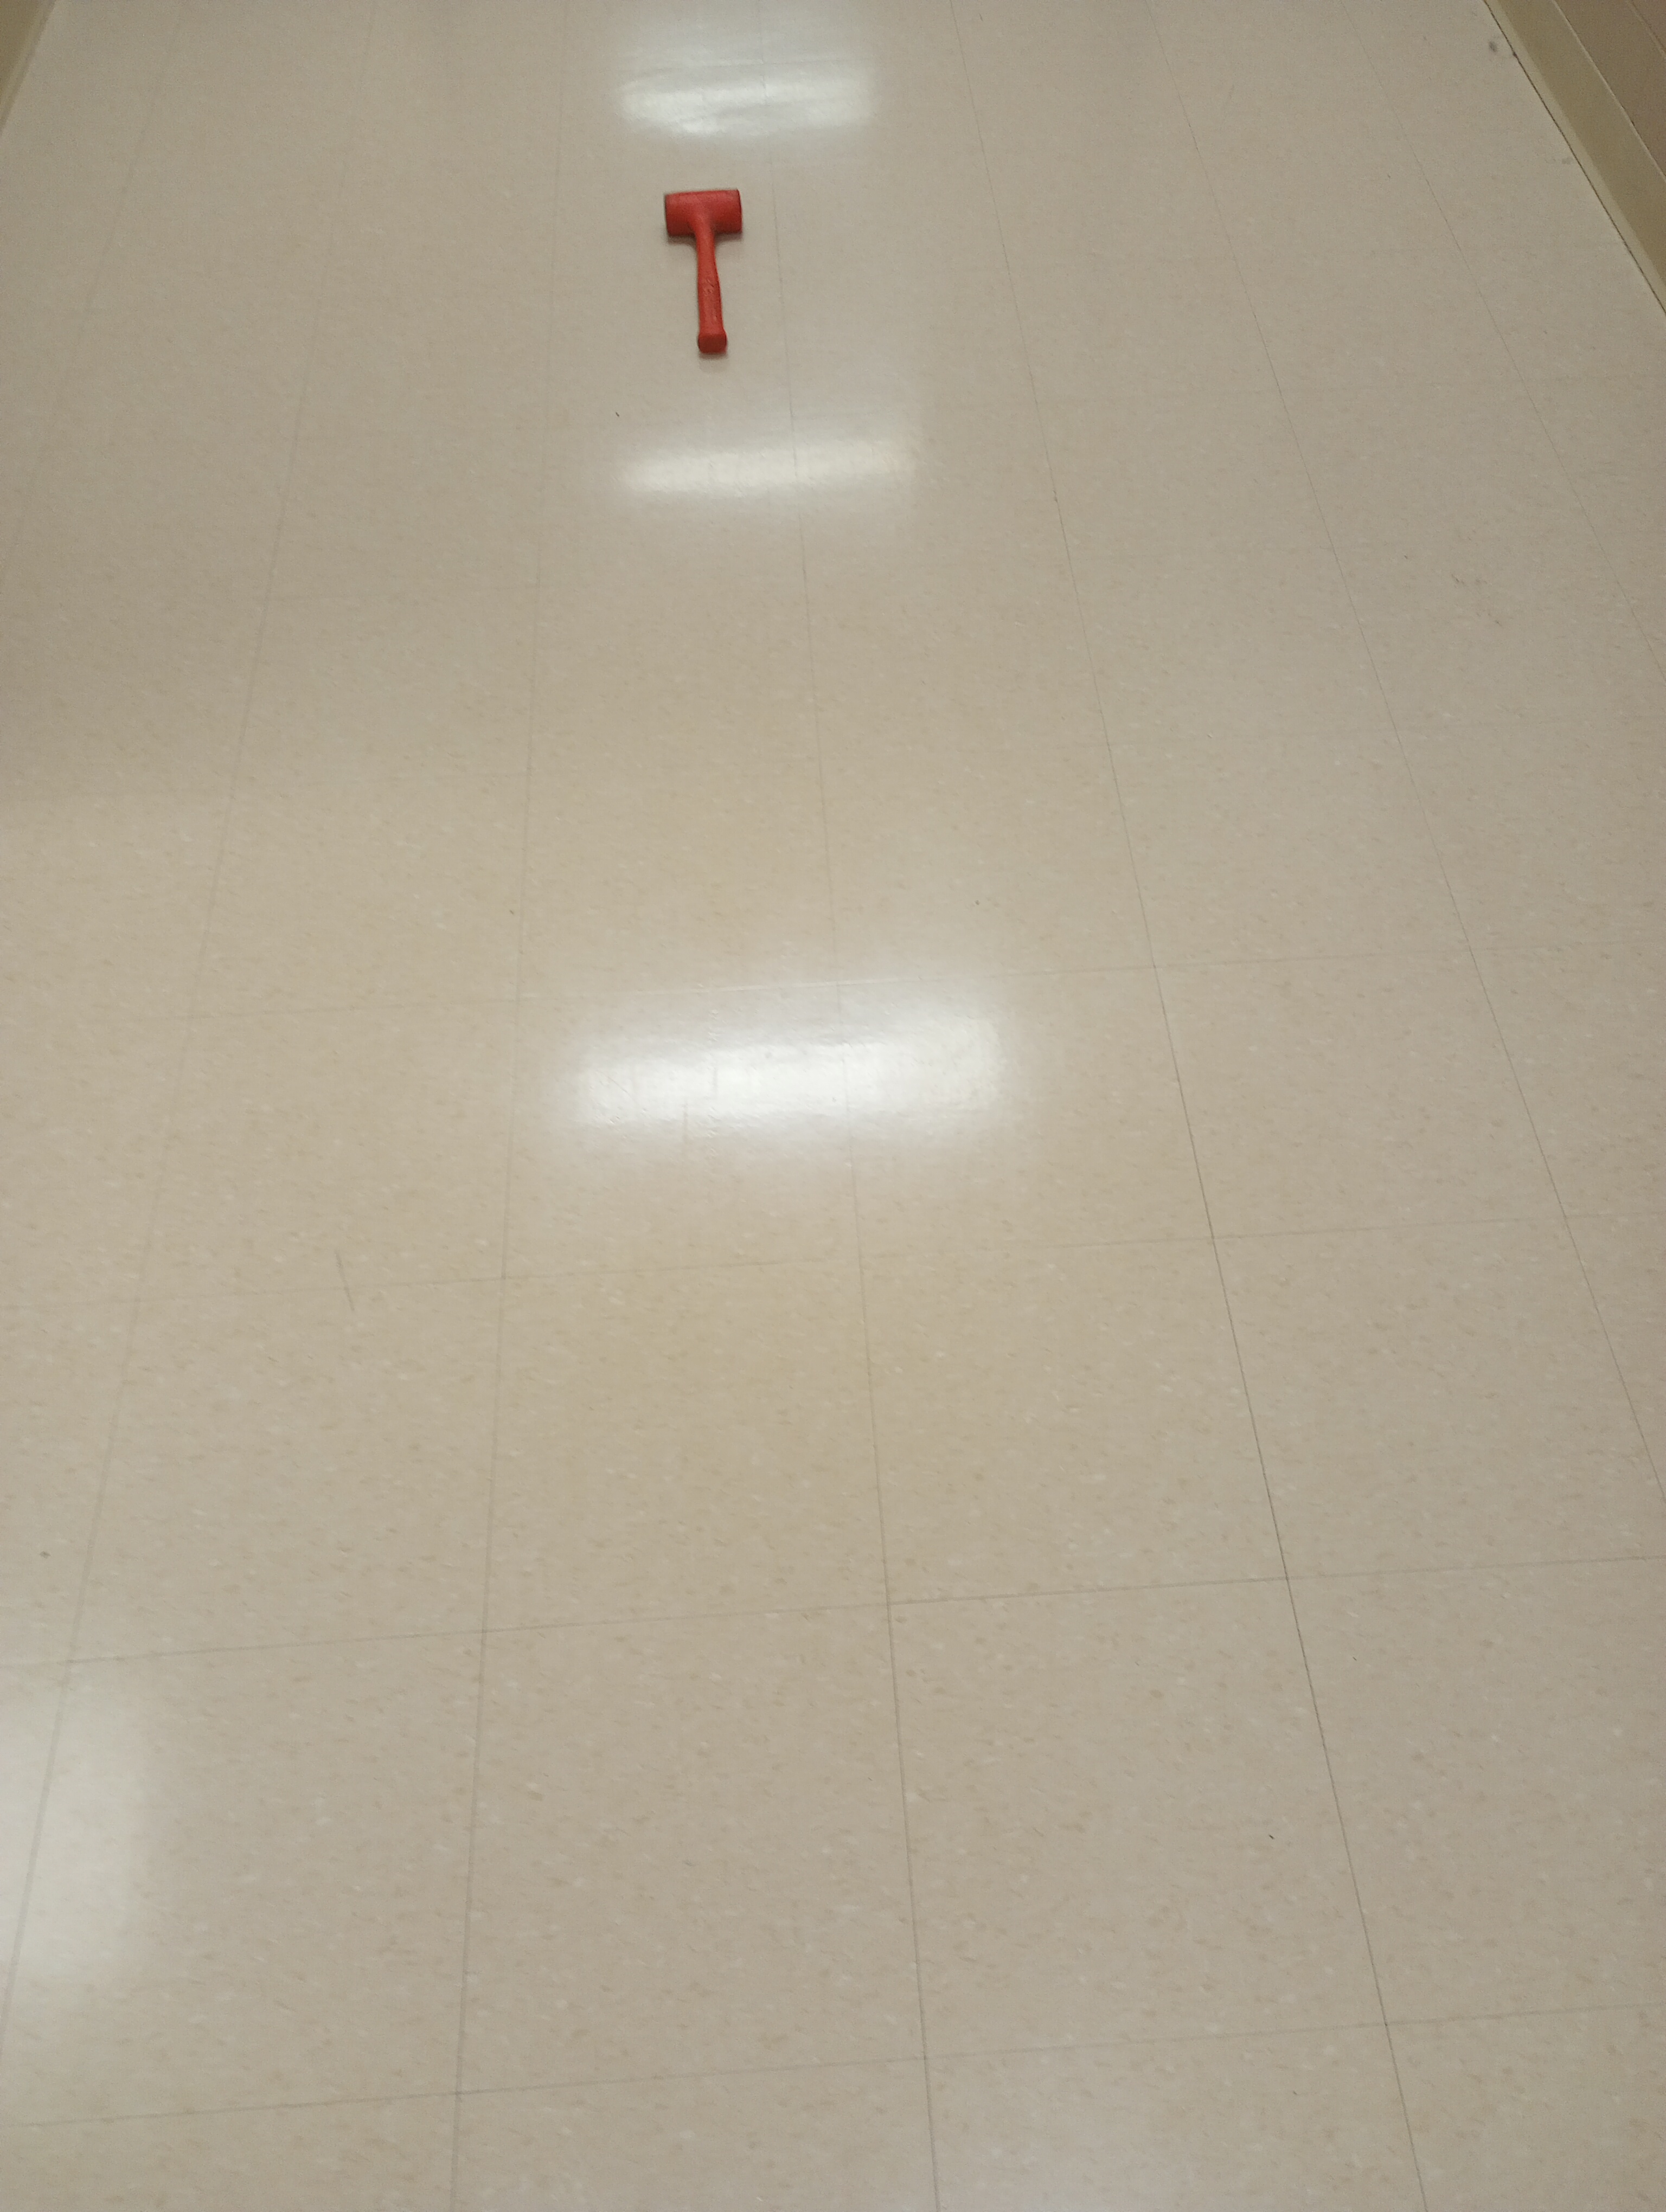hammer: (660, 177, 746, 364)
